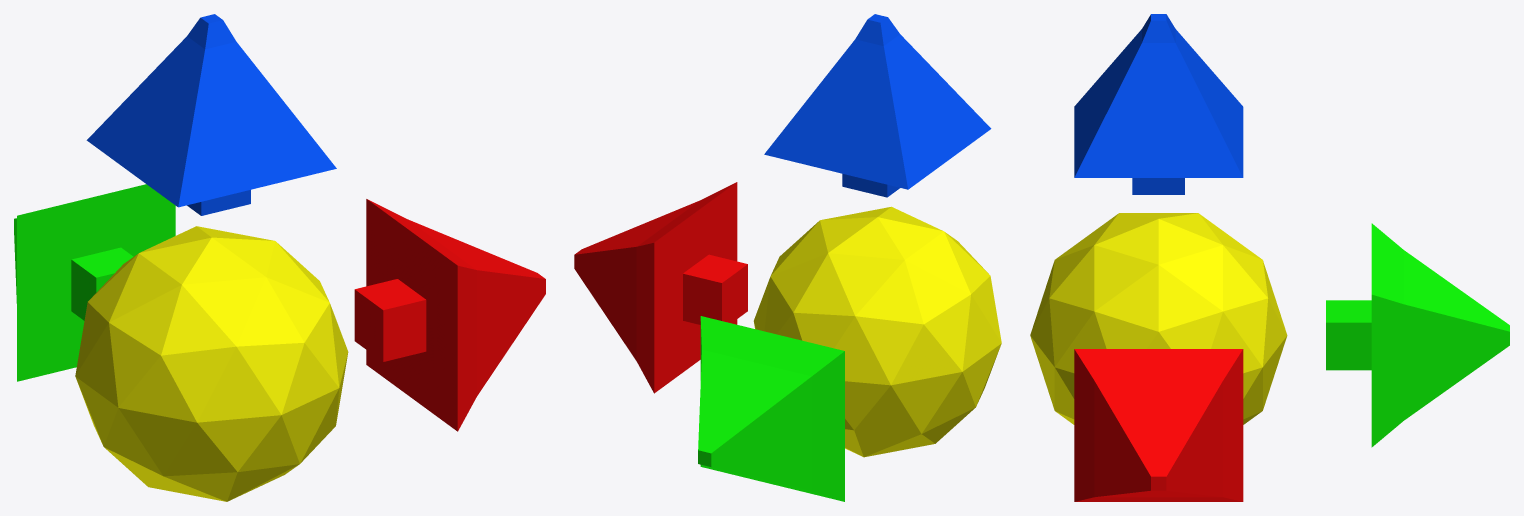
File: notloc_test_sphere.glb
The picture shows the model from 3 angles, left to right: view 1: azimuth 30°, elevation 25°; view 2: azimuth 150°, elevation 25°; view 3: azimuth 270°, elevation 25°; orthographic projection. The views are drawn at different scales.
Visible parts, largest first — view 1: test_sphere; view 2: test_sphere; view 3: test_sphere.
Part boxes in pixels (left/top/right/bottom): test_sphere: left=14, top=14, right=545, bottom=501; test_sphere: left=574, top=14, right=1001, bottom=501; test_sphere: left=1030, top=14, right=1509, bottom=501.
Bounding box in the file's own units: 18.4 × 18.65 × 18.65.
1 material, 1 textured.
